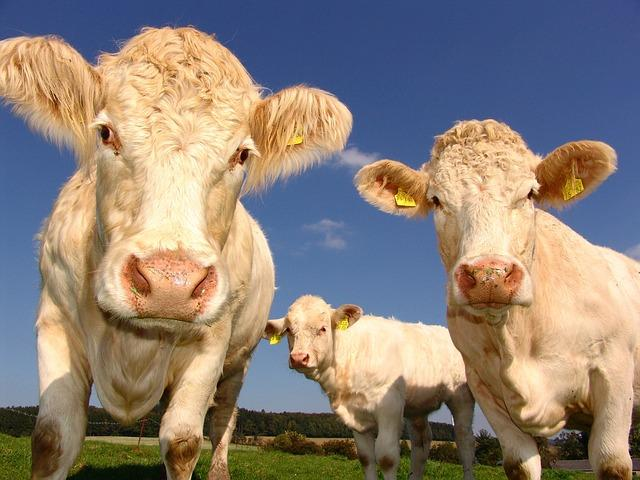Non_Gorille: (18, 9, 640, 480)
